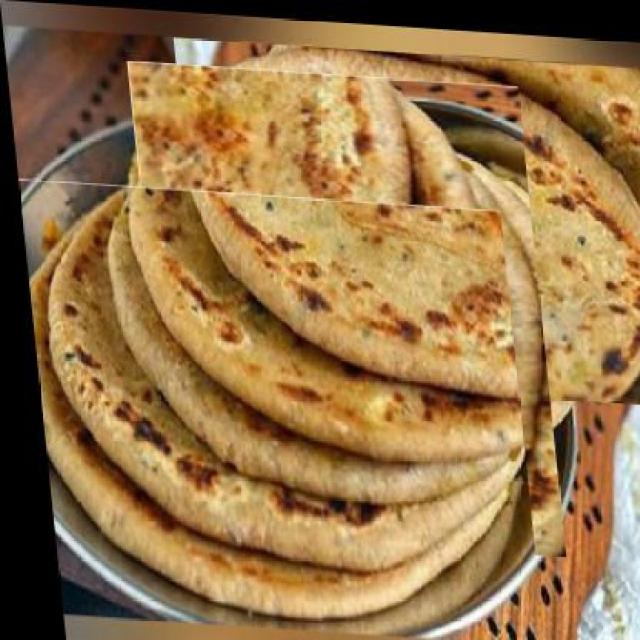chapati: (15, 178, 533, 630), (108, 79, 575, 532), (171, 34, 638, 400)
